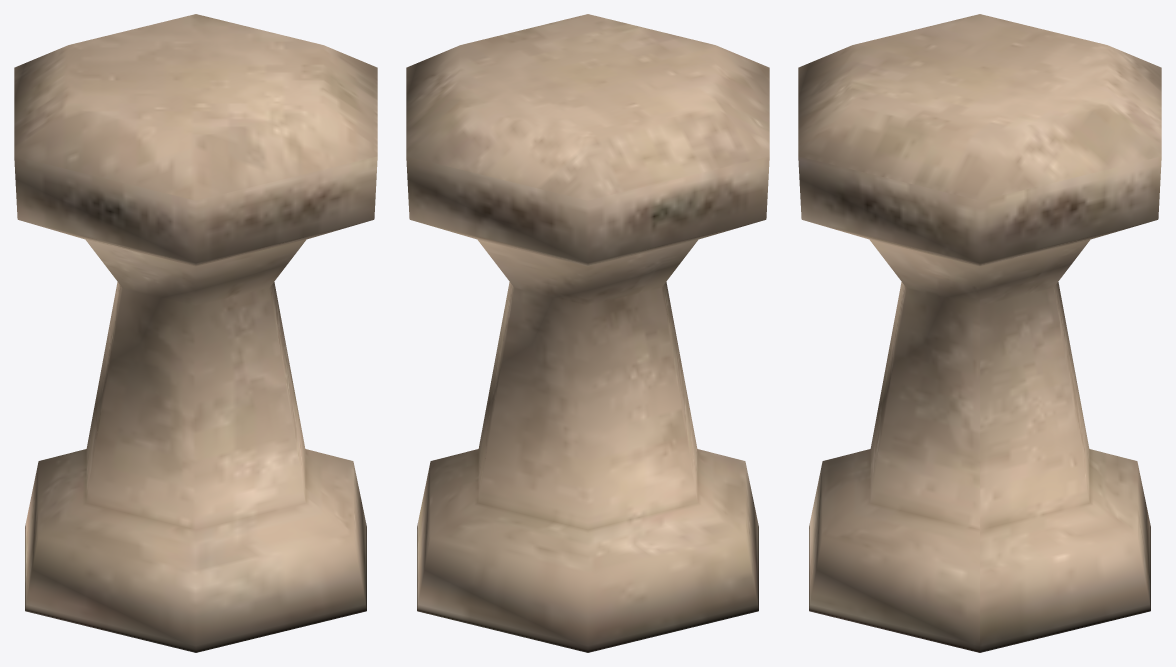
Rendered from KM_KINGSSEAL.glb.
The picture shows the model from 3 angles, left to right: view 1: azimuth 30°, elevation 25°; view 2: azimuth 150°, elevation 25°; view 3: azimuth 270°, elevation 25°; orthographic projection.
Parts seen in each view (by area): view 1: Mesh; view 2: Mesh; view 3: Mesh.
Boxes of the visible parts, box(x1,y1,x2,y2) form: Mesh: box(14, 14, 377, 652); Mesh: box(406, 14, 769, 652); Mesh: box(798, 14, 1161, 652).
Size of the model in its own units: 0.1137 by 0.1474 by 0.0984.
1 material, 1 textured.
